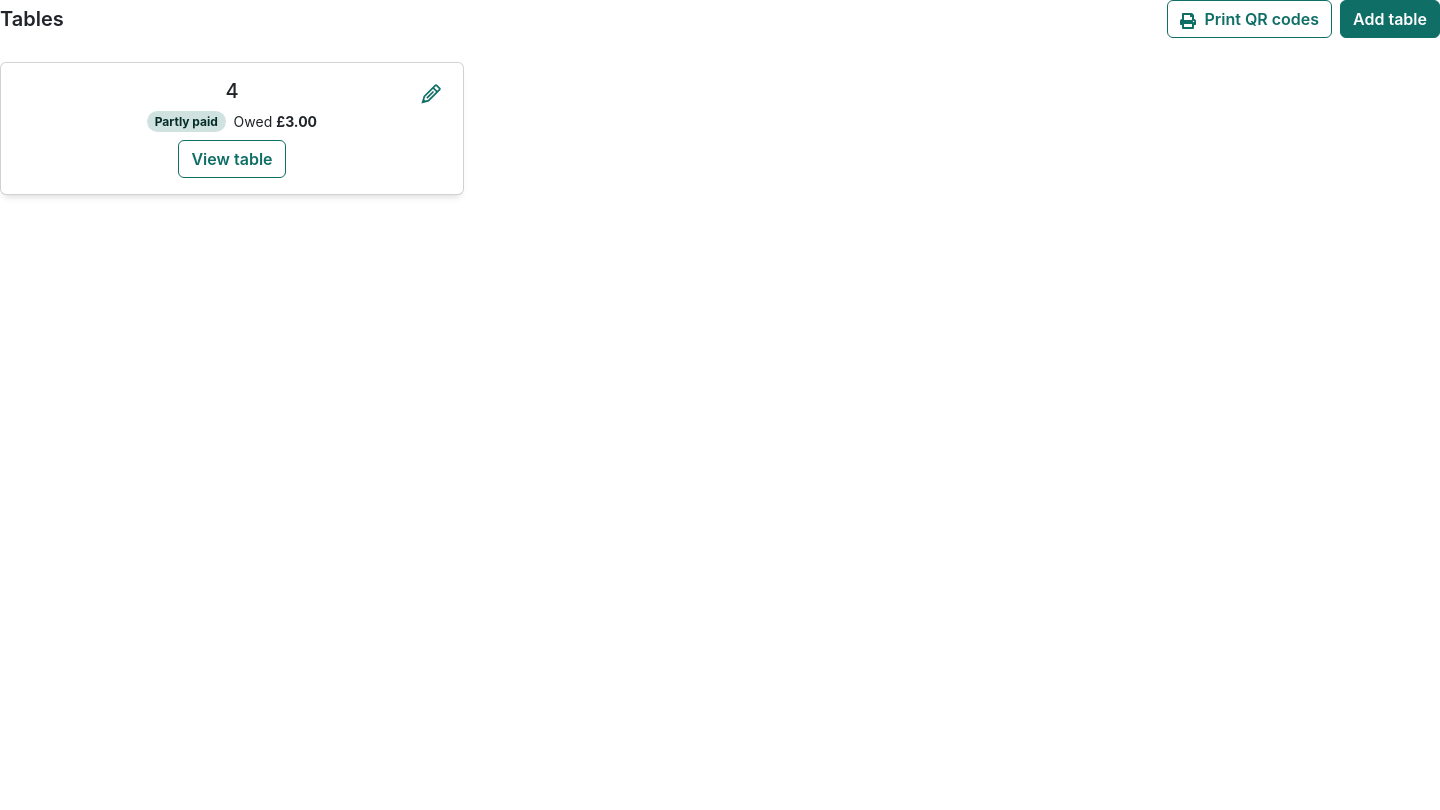
Test case: refunding a payment › keeps the picks, and focus, when the refund question is cancelled
Click the button with aria-label "View table 4". click: (232, 159)
box: [178,140,286,178]
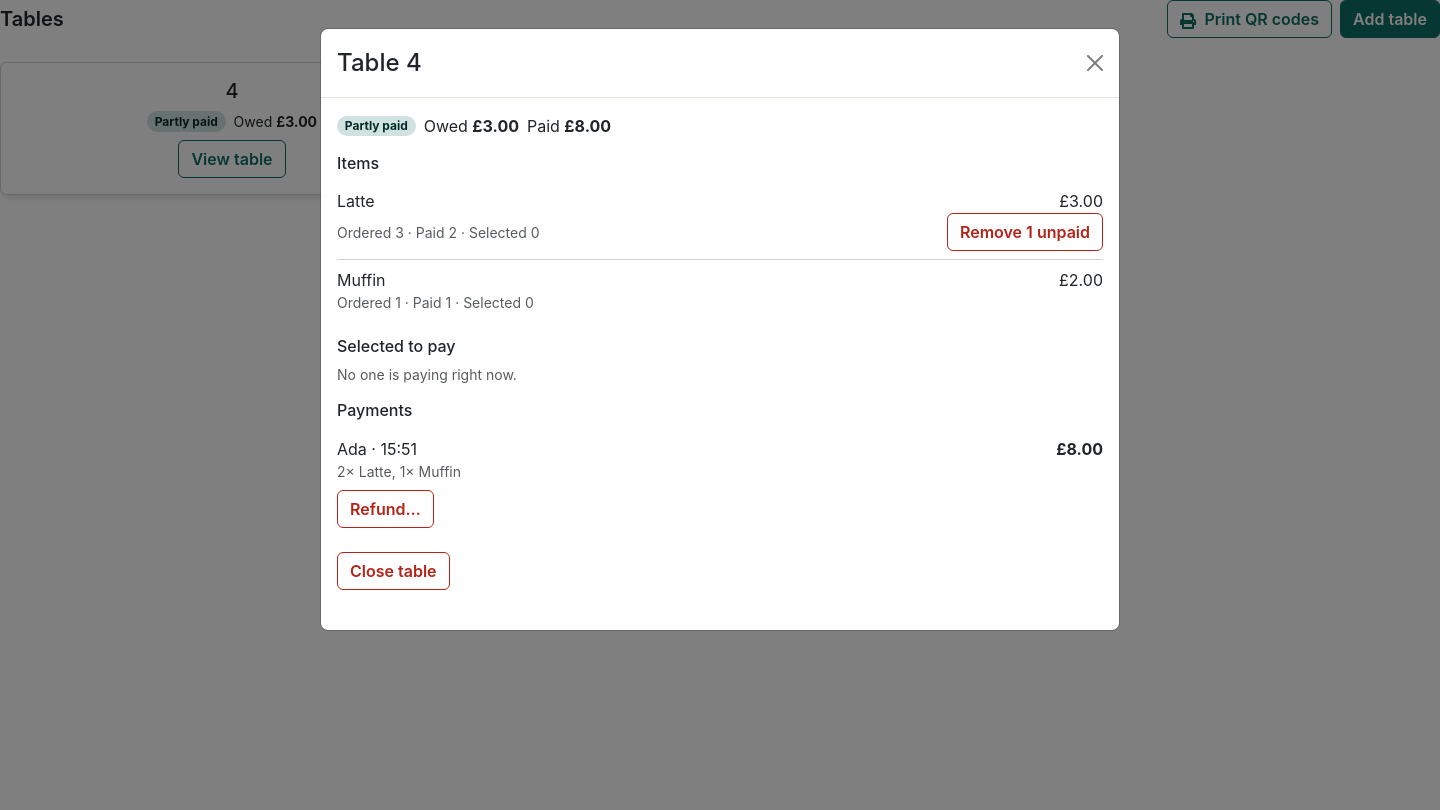
Click the button with aria-label "Refund items from Ada's payment of £8.00". click: (385, 509)
box: [337,490,434,528]
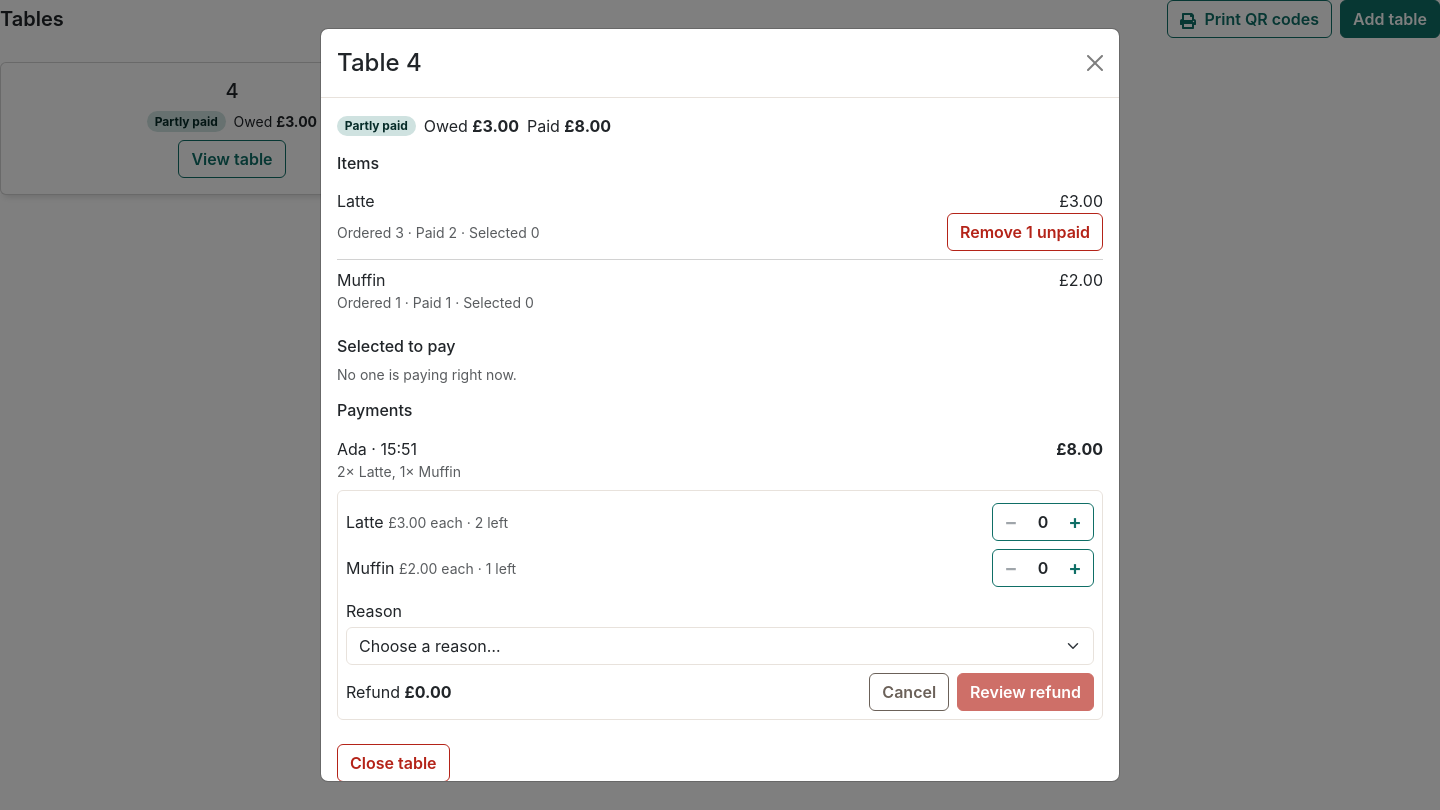
Click the button named "Refund one more Latte". click: (1075, 522)
box: [1057,504,1093,540]
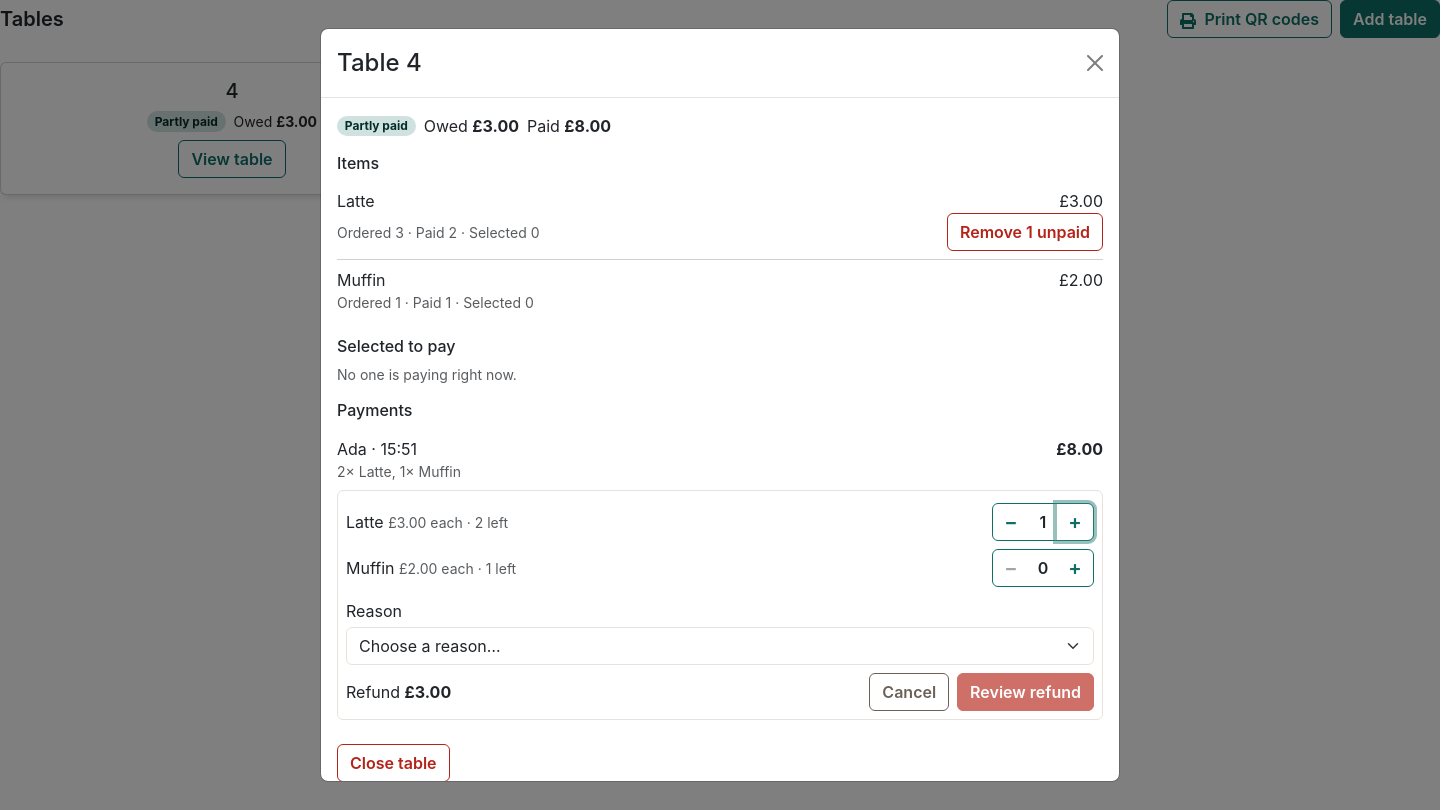
Select "Wrong item served" in the dropdown labelled "Reason". click: (720, 646)
box: [346,627,1094,665]
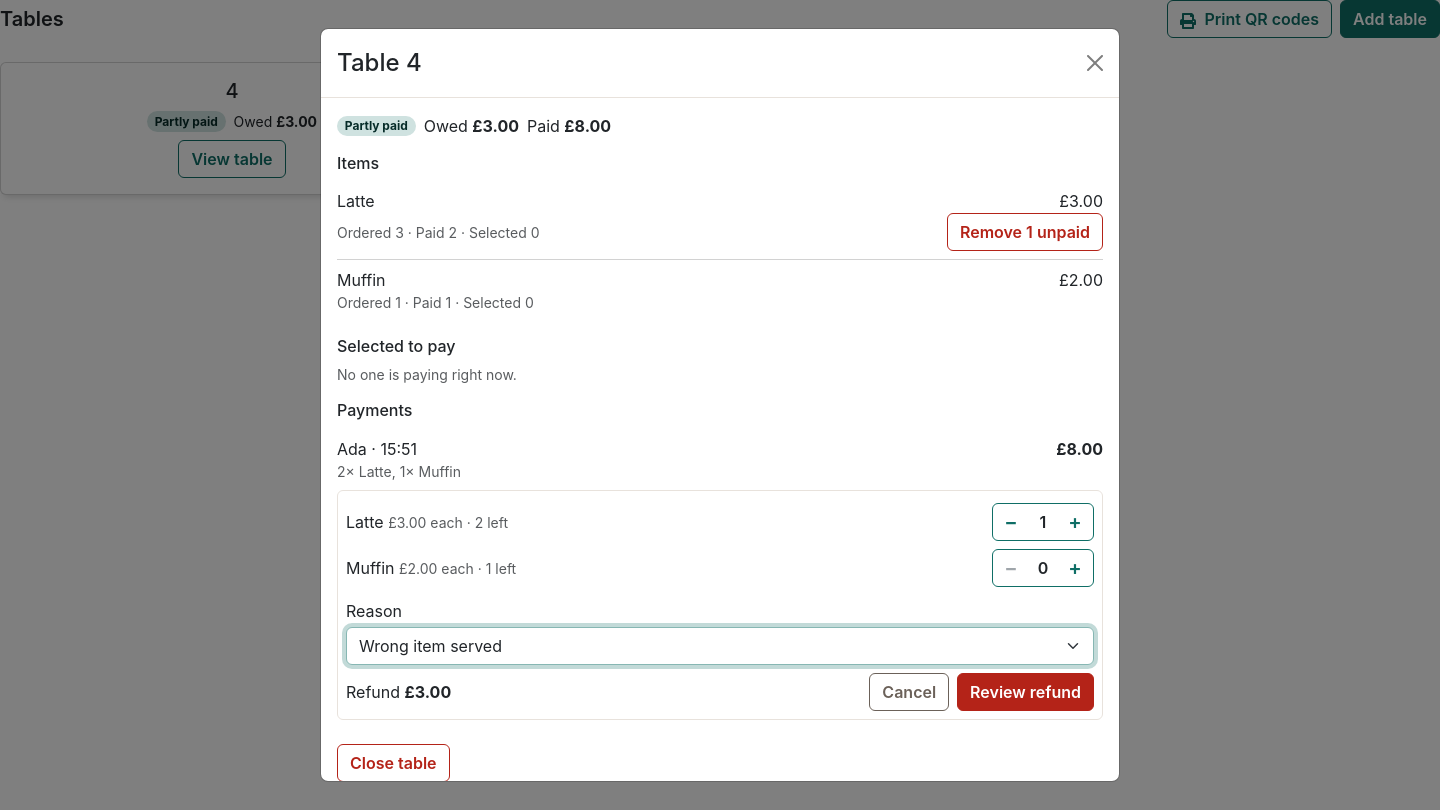
Click the button "Review refund". click: (1026, 692)
box: [957,673,1094,711]
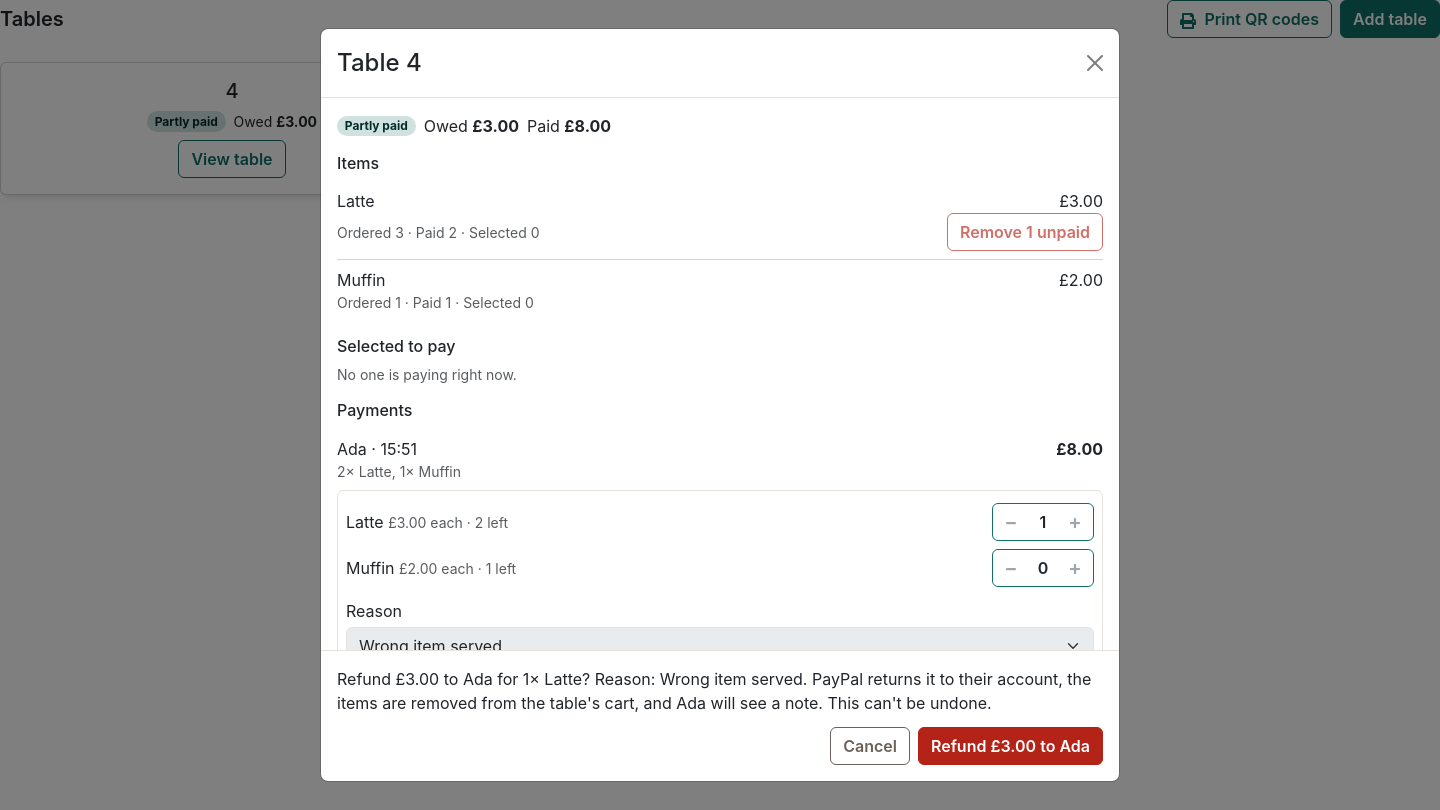
Now the button named "Refund one more Latte" is disabled, box [1057,504,1093,540]
Now the dropdown labelled "Reason" is disabled, box [346,627,1094,650]
Click the button "Cancel". click: (870, 746)
box: [830,727,910,765]
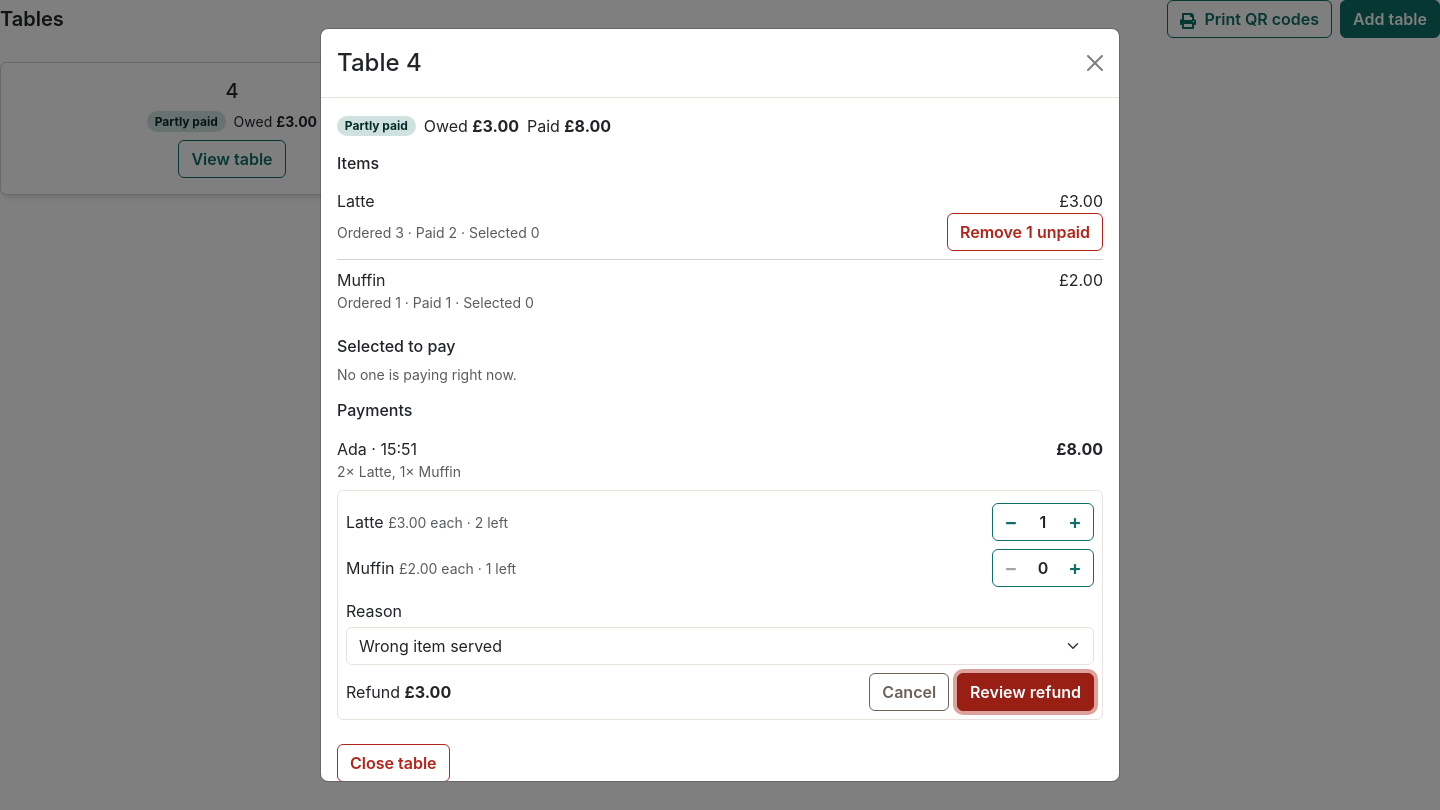
Now the text "£3.00" reads "Refund £3.00", box [346,680,451,704]
Now the button "Review refund" is enabled, box [957,673,1094,711]
